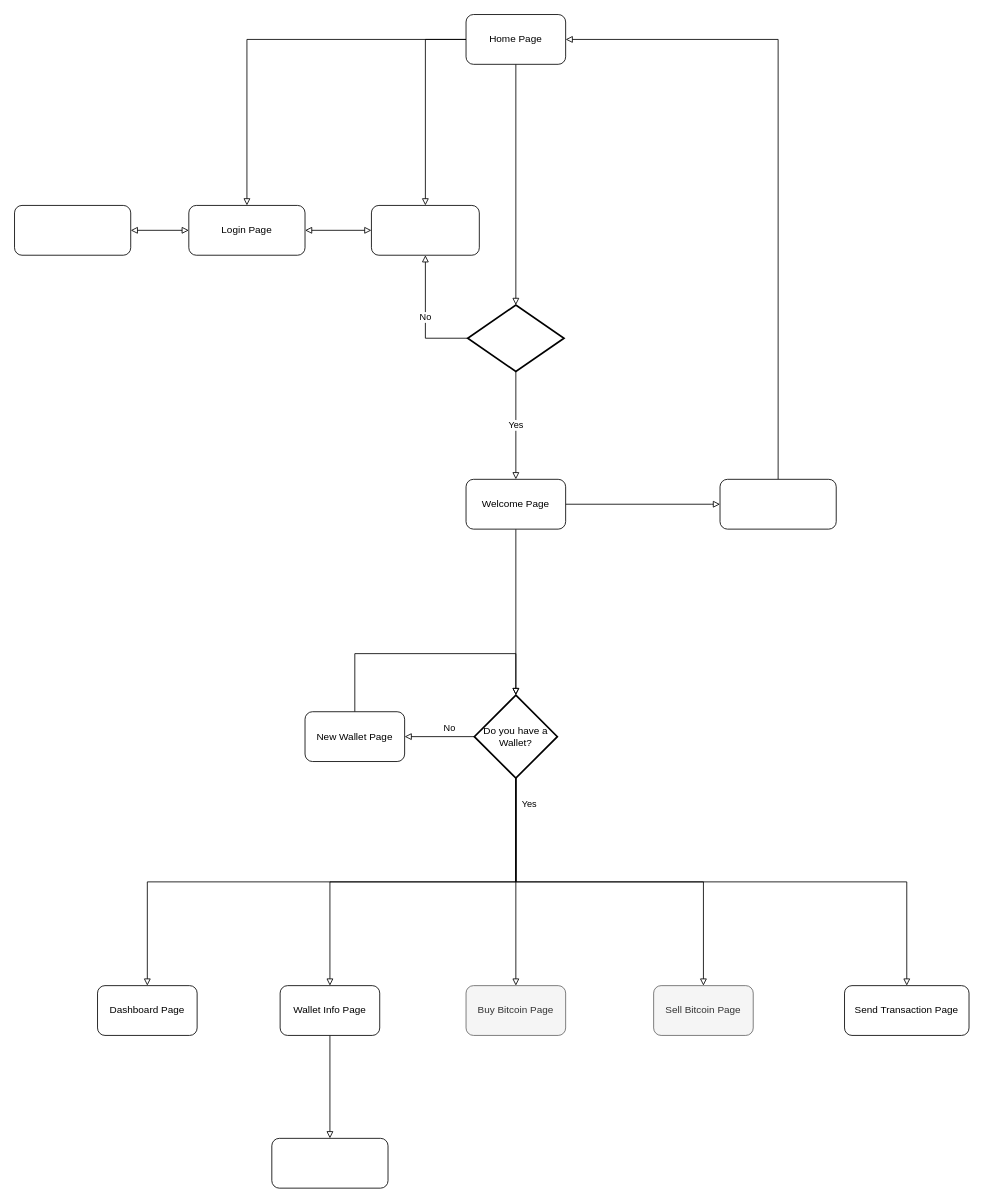
Image size: 984x1203. Some labels were removed from this diagram. Each missing label, with the centre of its shape:
"Change Password Page" belongs at (x=329, y=1163).
"Forgot Pasword Page" belongs at (x=72, y=230).
"Login yet?" belongs at (x=515, y=338).
"Logout Page" belongs at (x=777, y=503).
"Register Page" belongs at (x=425, y=230).
